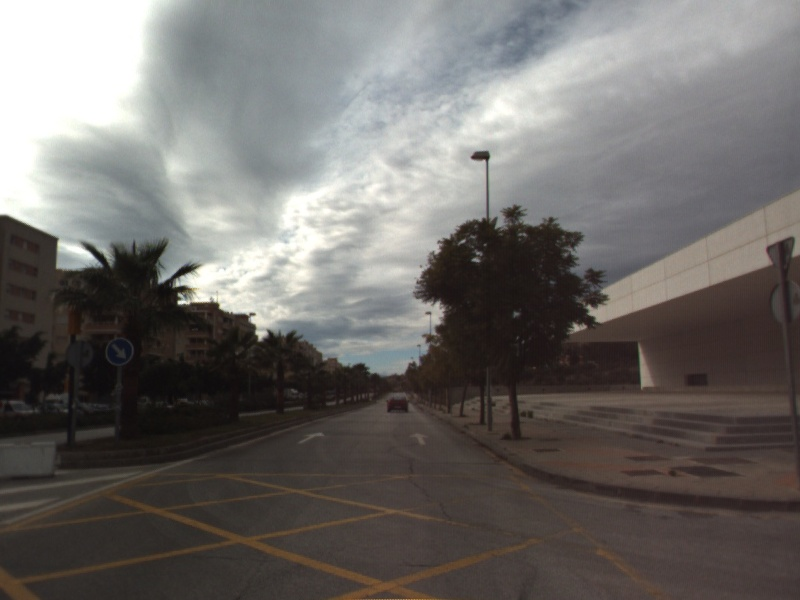STRAIGHT: (295, 430, 327, 446), (407, 431, 430, 447)
